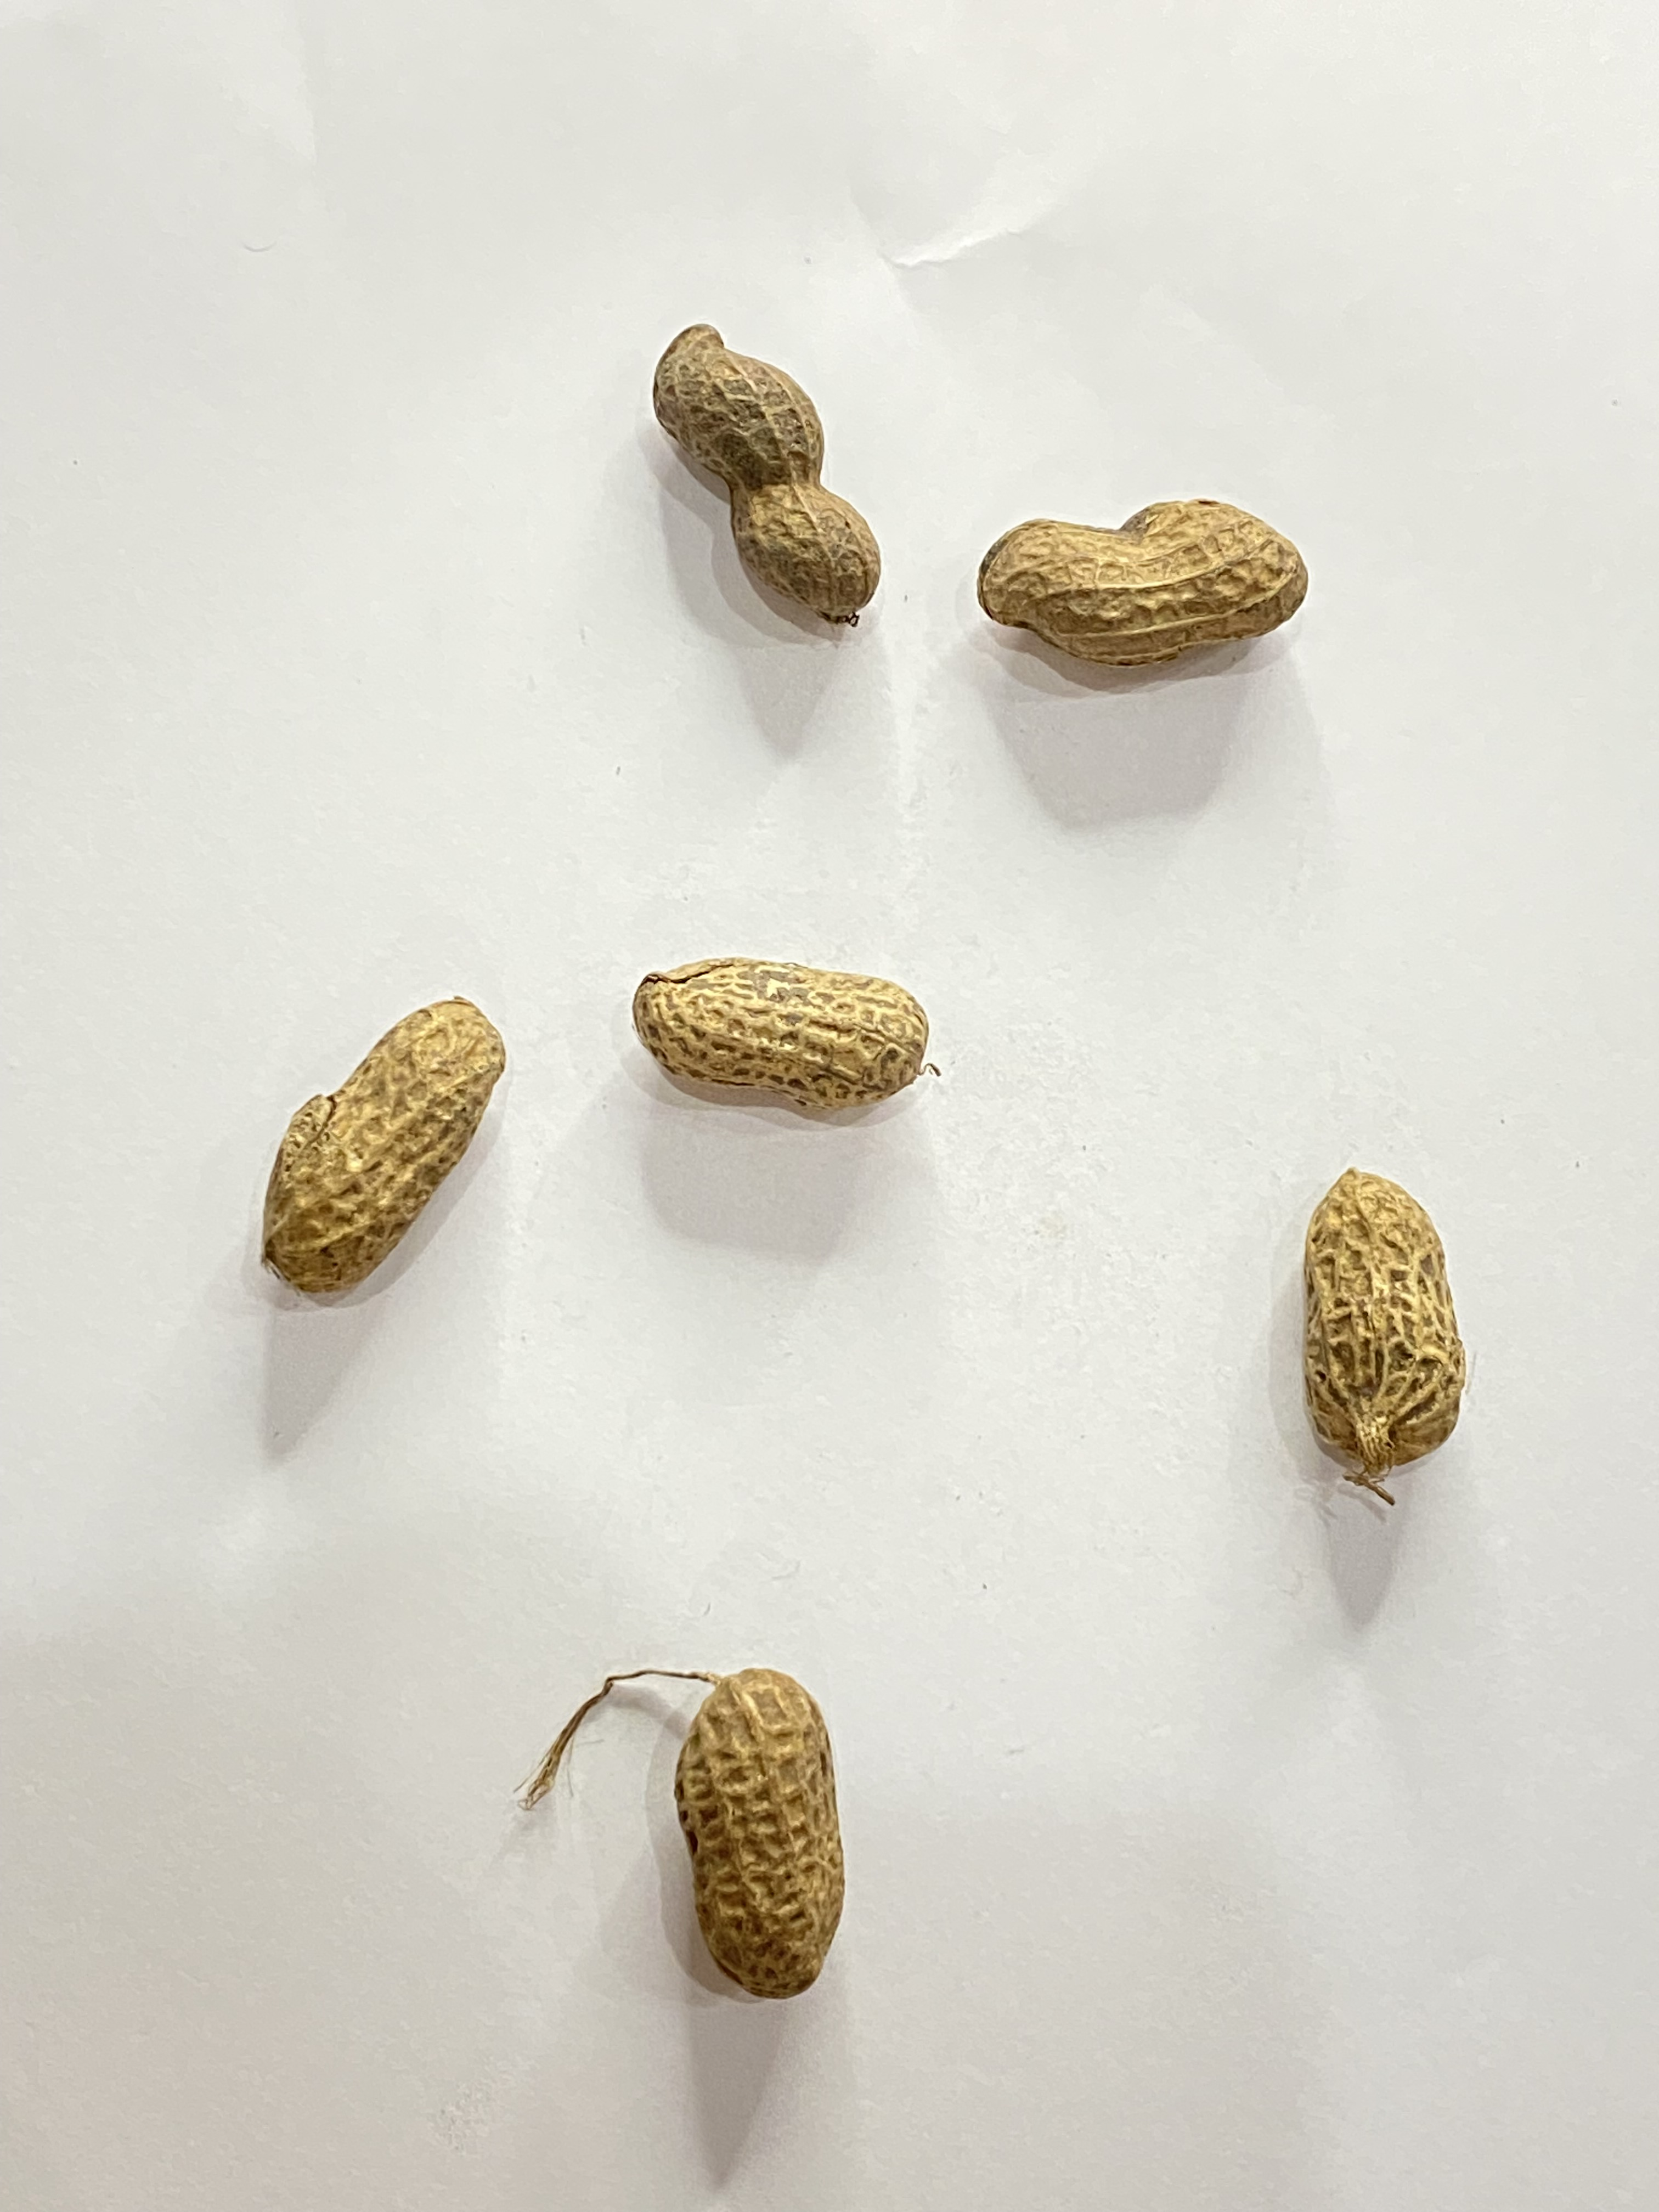kacang1: (1246, 1113, 1509, 1503)
kacang2: (605, 1644, 899, 2026), (242, 951, 552, 1287), (636, 242, 889, 629), (594, 897, 969, 1144), (965, 489, 1314, 681)
